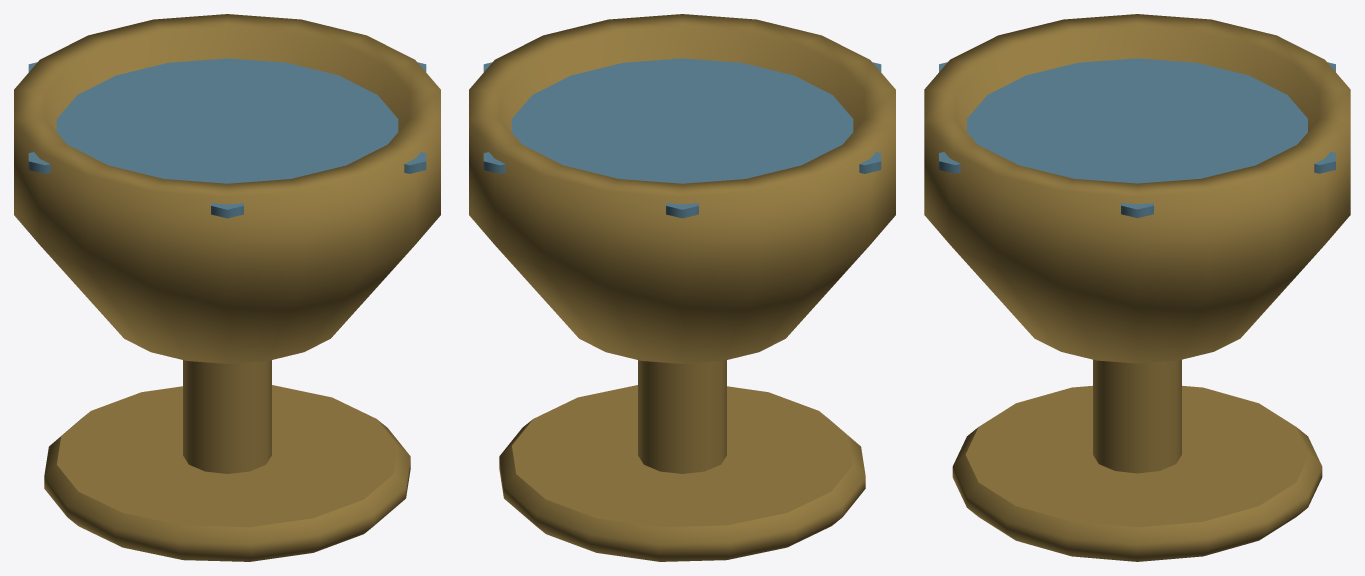
The model's file is hero_drink.obj.
3 renders of one model, left to right at view 1: azimuth 30°, elevation 25°; view 2: azimuth 150°, elevation 25°; view 3: azimuth 270°, elevation 25°, orthographic.
Parts seen in each view (by area): view 1: hero_drink; view 2: hero_drink; view 3: hero_drink.
Part boxes in pixels (box(x1,y1,x2,y2)): hero_drink: box(14, 14, 440, 561); hero_drink: box(469, 14, 895, 561); hero_drink: box(924, 14, 1350, 561).
Size of the model in its own units: 1.44 by 1.33 by 1.34.
